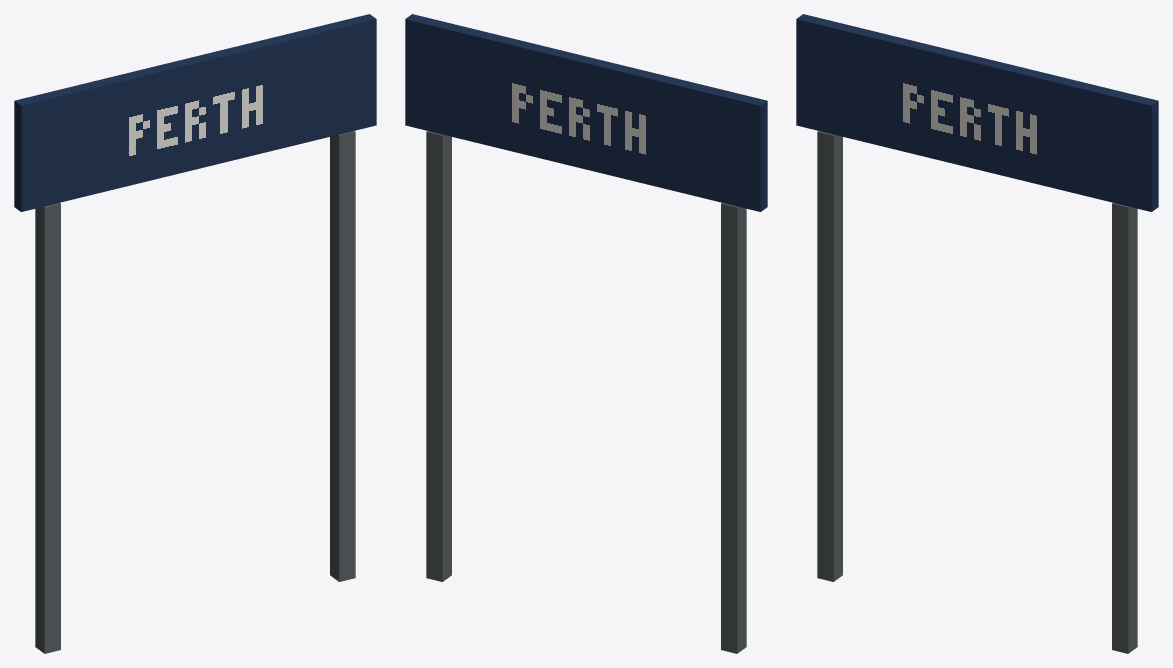
The model's file is station_board_perth.glb.
3 views of the same model, side by side, from view 1: azimuth 30°, elevation 25°; view 2: azimuth 150°, elevation 25°; view 3: azimuth 330°, elevation 25° (orthographic).
Parts seen in each view (by area): view 1: StationBoardPerth; view 2: StationBoardPerth; view 3: StationBoardPerth.
Part boxes in pixels (<box>): StationBoardPerth: <box>14,14,376,653</box>; StationBoardPerth: <box>405,14,767,653</box>; StationBoardPerth: <box>796,14,1158,653</box>.
Size of what is drawn, in the model's own units: 1.75 by 2.6 by 0.08.
Materials: 3 (1 with a texture image).
